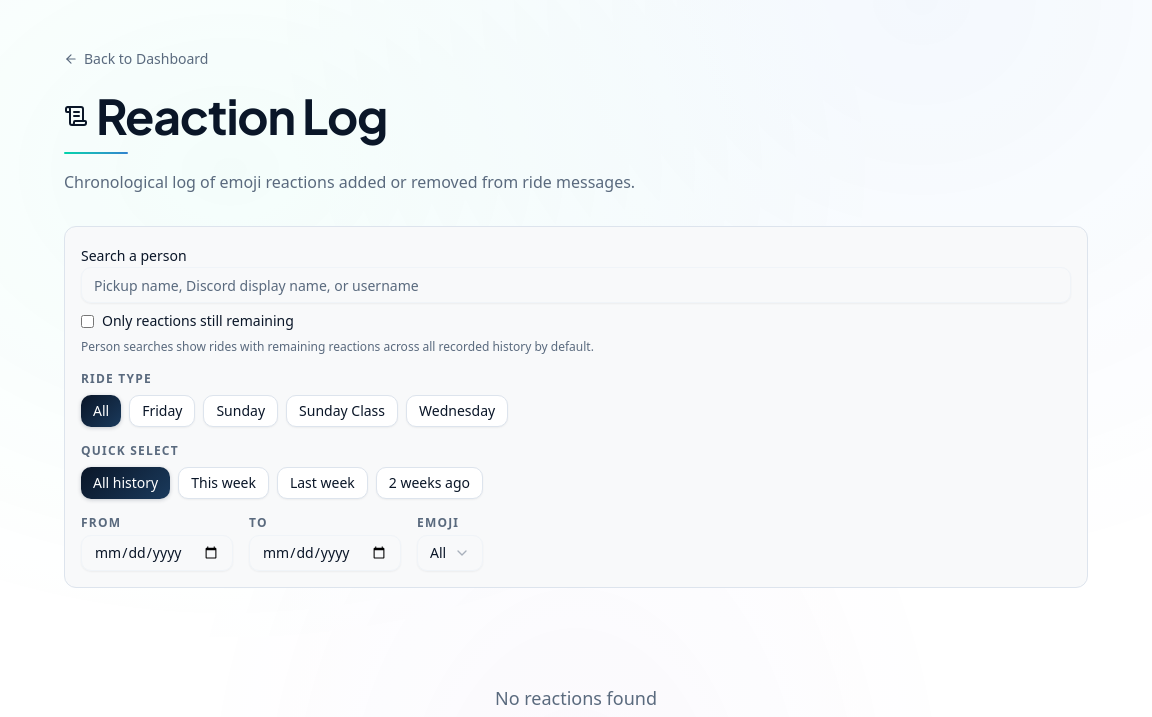
Test: searches all history for remaining reactions and clears the search
The image size is (1152, 717).
Type "Jane" into the field labelled "Search a person" at (576, 285), box [81,267,1071,303]
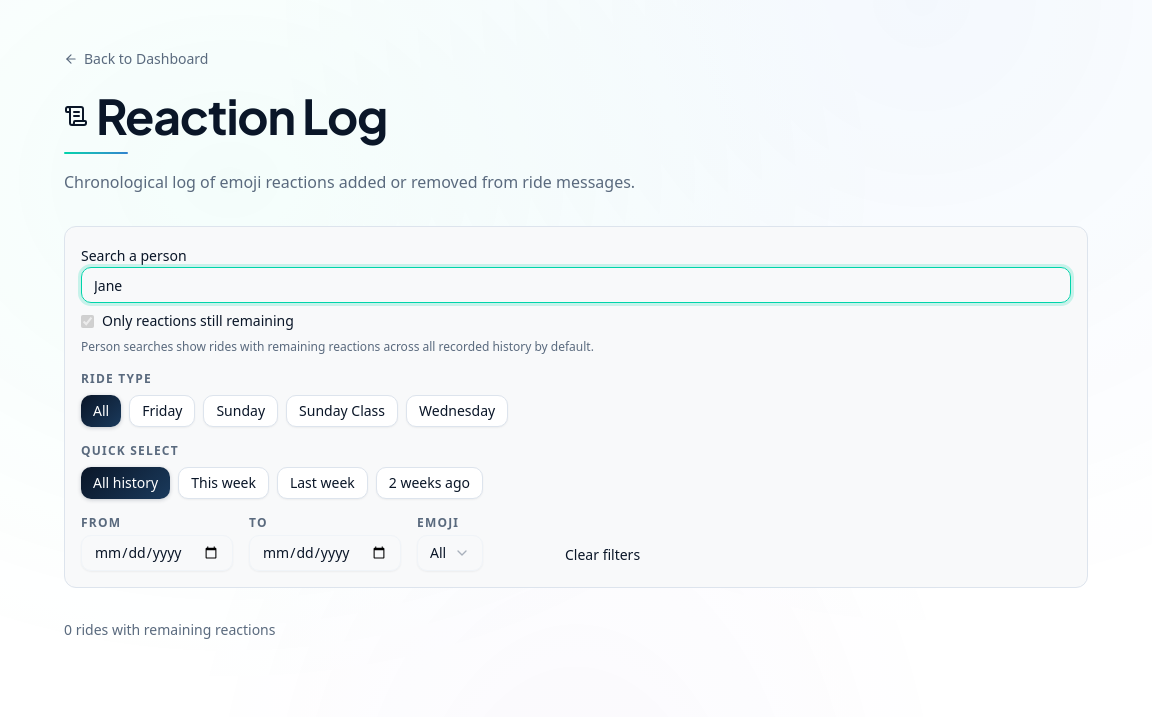
Check: the date field labelled "From" is empty, box [81,535,233,571]
Check: the checkbox labelled "Only reactions still remaining" is checked, box [81,314,94,328]
Click the button "Clear filters" at (603, 555), box [553,539,652,571]
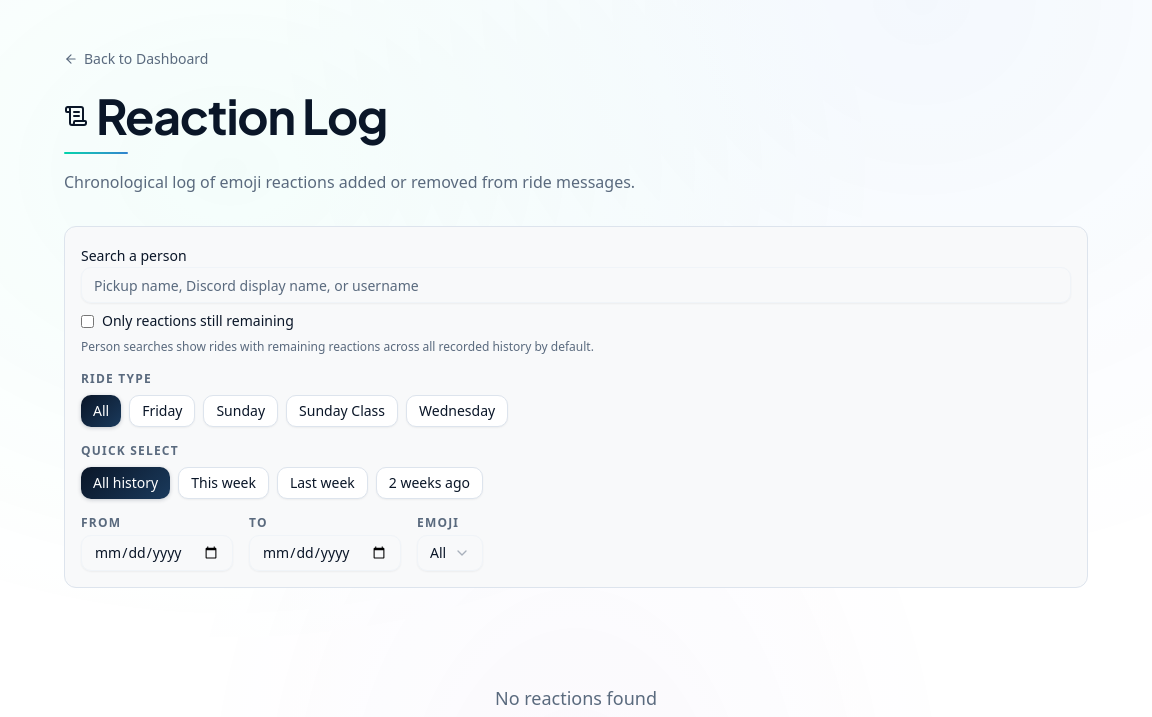
Check: the field labelled "Search a person" is empty, box [81,267,1071,303]
Check: the checkbox labelled "Only reactions still remaining" is not checked, box [81,314,94,328]
